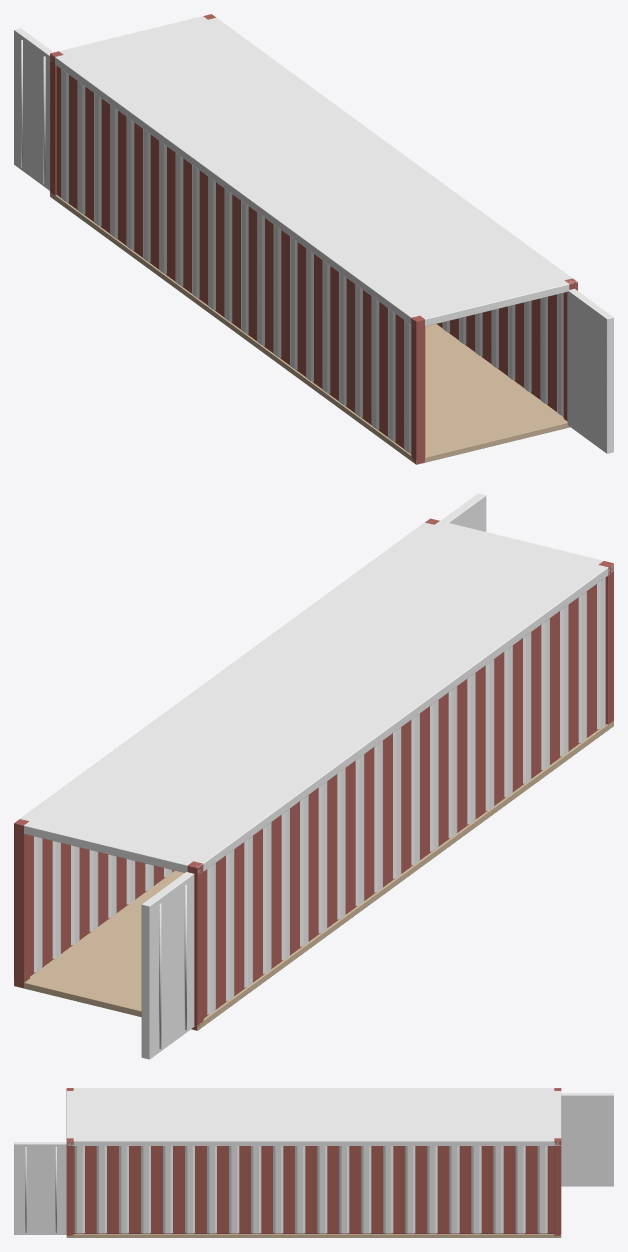
File: container_hollow.glb
The picture shows the model from 3 angles, top to bottom: view 1: azimuth 30°, elevation 25°; view 2: azimuth 150°, elevation 25°; view 3: azimuth 270°, elevation 25°; orthographic projection. The views are drawn at different scales.
Parts seen in each view (by area): view 1: HollowContainer; view 2: HollowContainer; view 3: HollowContainer.
Boxes of the visible parts, bbox=[...] form: HollowContainer: bbox=[14, 14, 613, 464]; HollowContainer: bbox=[14, 493, 613, 1059]; HollowContainer: bbox=[14, 1088, 613, 1237].
Bounding box in the file's own units: 3.16 × 2.68 × 15.05.
